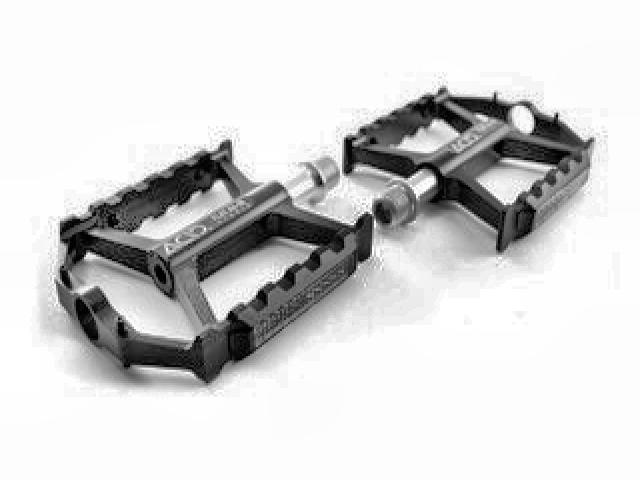pedal: (46, 132, 379, 390), (344, 83, 596, 251)
